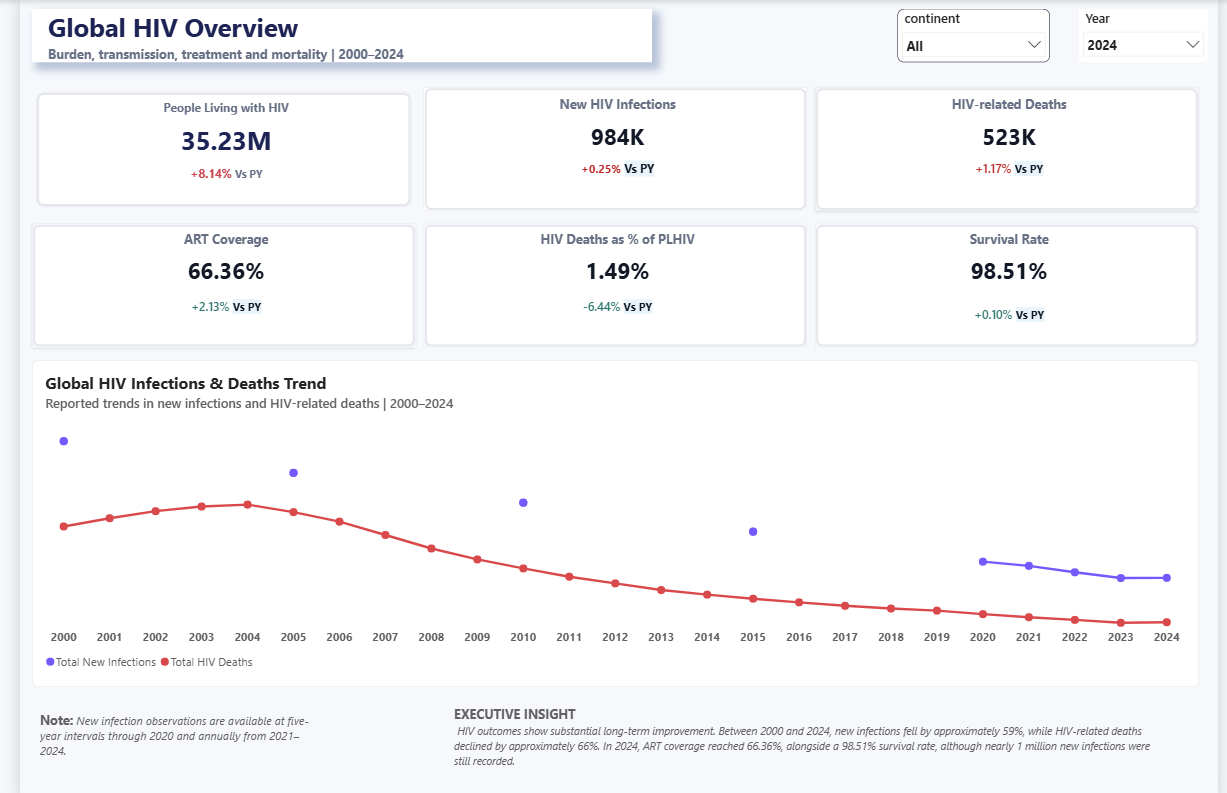

Layout of this report page (visuals, bound fields, positions):
{"tool":"powerbi","page":{"name":"01 Overview","canvas":[1500,1000],"ordinal":0},"visuals":[{"type":"textbox","title":"Global HIV Overview","box":[14.8,11.1,775.9,66.7],"z":0},{"type":"slicer","fields":{"Values":["DimDate.Date.Variation.Date Hierarchy.Year"]},"box":[1325.9,11.1,161.1,66.7],"z":1000},{"type":"cardVisual","fields":{"Data":["MeasureTable_.Total People Living with HIV"]},"box":[15,108.9,480,155],"z":2000},{"type":"cardVisual","fields":{"Data":["MeasureTable_.Total New Infections"]},"box":[505,108.9,480,155],"z":3000},{"type":"cardVisual","fields":{"Data":["MeasureTable_.Average ART Coverage"]},"box":[15,279.7,480,155],"z":4000},{"type":"cardVisual","fields":{"Data":["MeasureTable_.Mortality Rate"]},"box":[505,279.7,480,155],"z":5000},{"type":"cardVisual","fields":{"Data":["MeasureTable_.Survival Rate"]},"box":[995,279.7,480,155],"z":6000},{"type":"cardVisual","fields":{"Data":["MeasureTable_.Total HIV Deaths"]},"box":[995,108.9,480,155],"z":7000},{"type":"slicer","fields":{"Values":["DimLocation.Continent"]},"box":[1098.3,11.3,190.7,66.7],"z":8000},{"type":"lineChart","title":"Global HIV Infections & Deaths Trend","fields":{"Category":["DimDate.Year"],"Y":["MeasureTable_.Total New Infections","MeasureTable_.Total HIV Deaths"]},"box":[14.8,450.6,1460.6,409.3],"z":9000},{"type":"textbox","box":[439.3,632.7,555.7,24.4],"z":10000},{"type":"textbox","box":[15,889.9,368,90.1],"z":11000},{"type":"textbox","box":[533.2,876.7,901.1,103.3],"z":12000}]}

Visuals, with their boxes on the page's 1500x1000 design canvas (x1, y1, x2, y2). These are canvas units, not pixel positions in the 1227x793 screenshot, which may show the page scaled, cropped or inside an application window:
"Global HIV Overview" textbox: select_region(15, 11, 791, 78)
slicer - DimDate.Date.Variation.Date Hierarchy.Year: select_region(1326, 11, 1487, 78)
cardVisual - MeasureTable_.Total People Living with HIV: select_region(15, 109, 495, 264)
cardVisual - MeasureTable_.Total New Infections: select_region(505, 109, 985, 264)
cardVisual - MeasureTable_.Average ART Coverage: select_region(15, 280, 495, 435)
cardVisual - MeasureTable_.Mortality Rate: select_region(505, 280, 985, 435)
cardVisual - MeasureTable_.Survival Rate: select_region(995, 280, 1475, 435)
cardVisual - MeasureTable_.Total HIV Deaths: select_region(995, 109, 1475, 264)
slicer - DimLocation.Continent: select_region(1098, 11, 1289, 78)
"Global HIV Infections & Deaths Trend" lineChart: select_region(15, 451, 1475, 860)
textbox: select_region(439, 633, 995, 657)
textbox: select_region(15, 890, 383, 980)
textbox: select_region(533, 877, 1434, 980)
